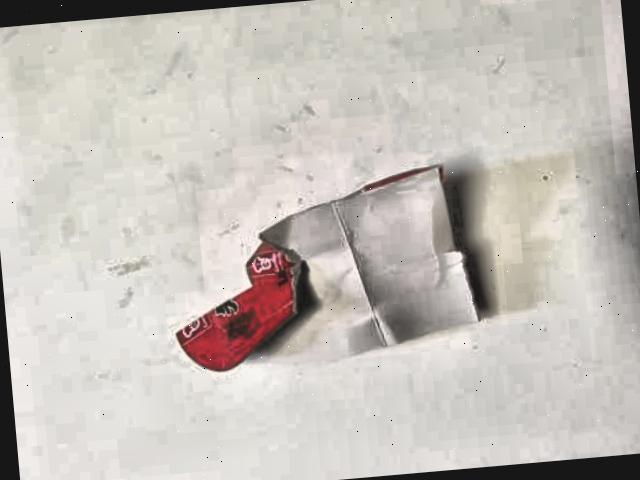Paper: (135, 144, 510, 429)
